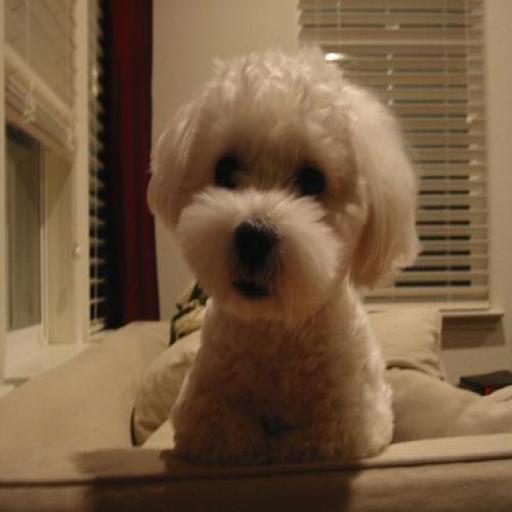dog_face: (146, 47, 415, 312)
